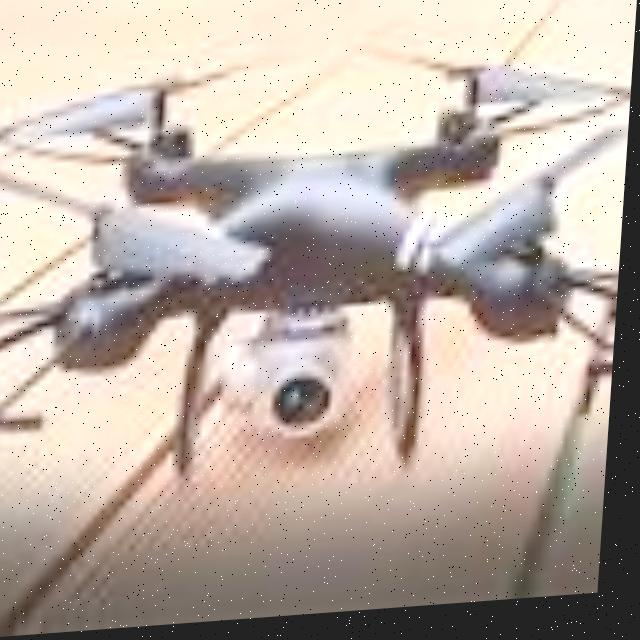drone: (0, 27, 637, 528)
